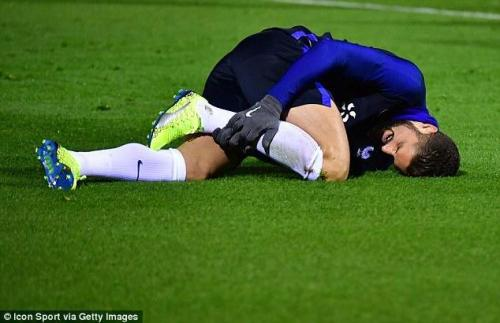fall: (25, 19, 466, 193)
